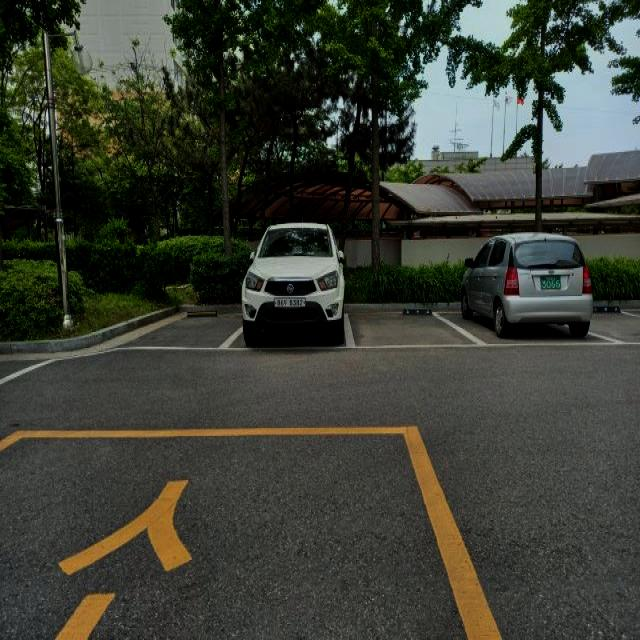empty: (100, 297, 255, 349), (347, 305, 486, 347)
occupied: (459, 232, 591, 339), (240, 223, 346, 347)
